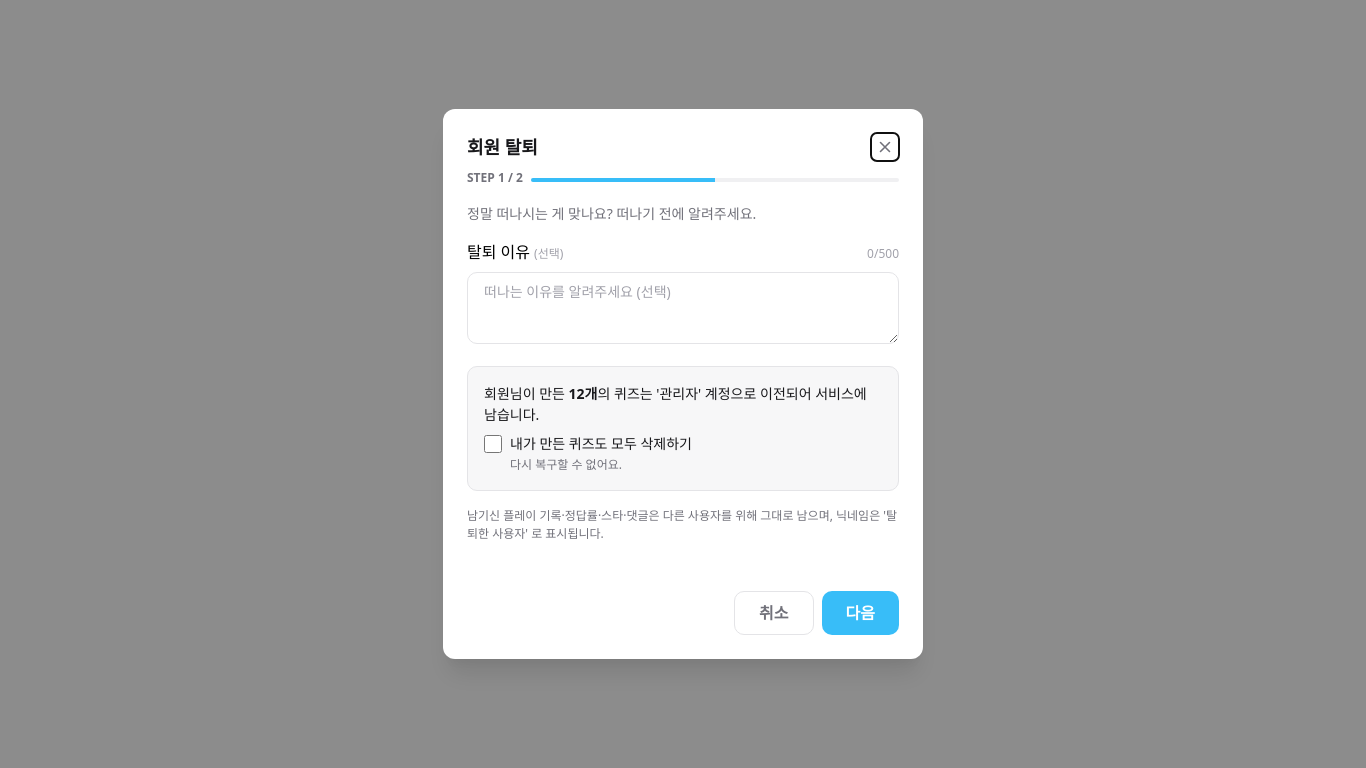
Test: WithdrawConfirmModal › Step 2 → Step 1 (이전) › step 2 에서 입력한 코드가 이전 후 다시 step 2 가면 보존된다
Click the button "다음": (860, 613) 822,591 -> 899,635
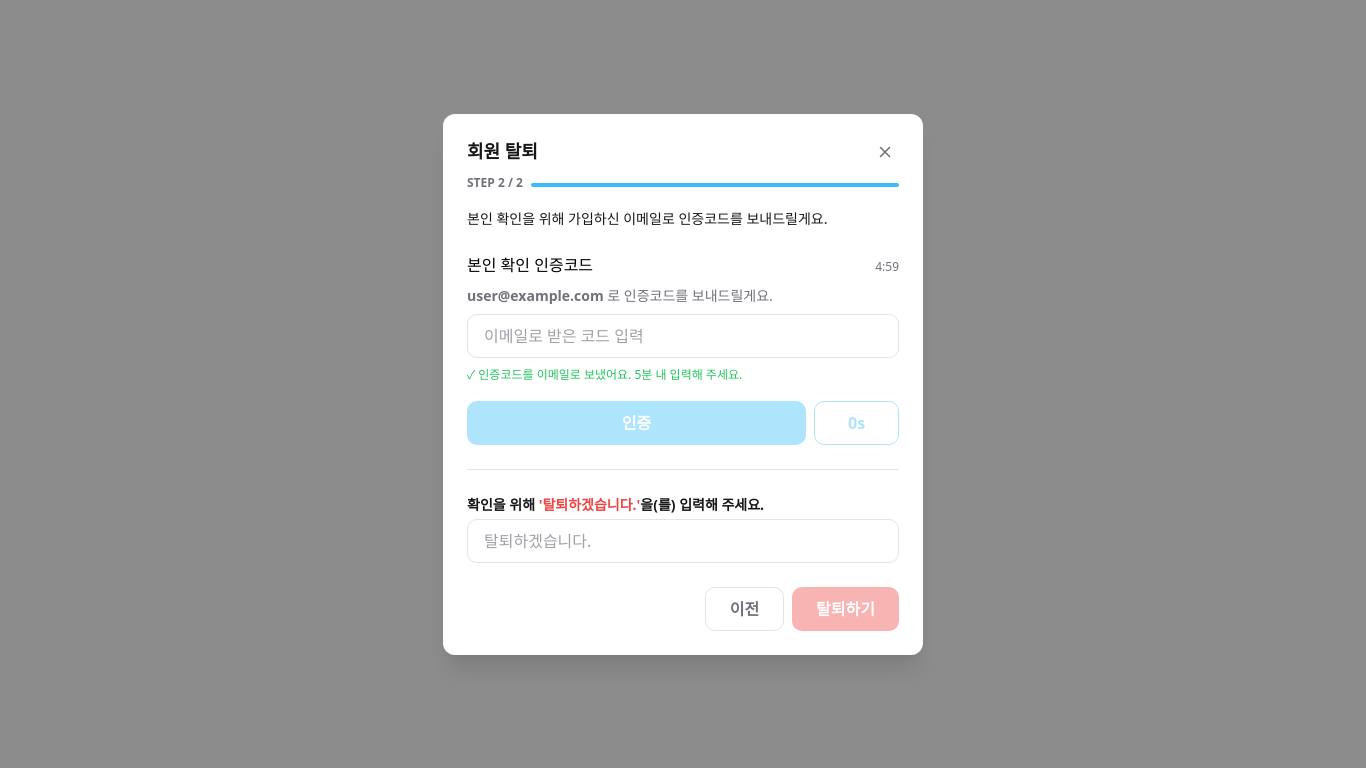
In the field named "인증코드": (683, 336) 467,314 -> 899,358, type "123456"
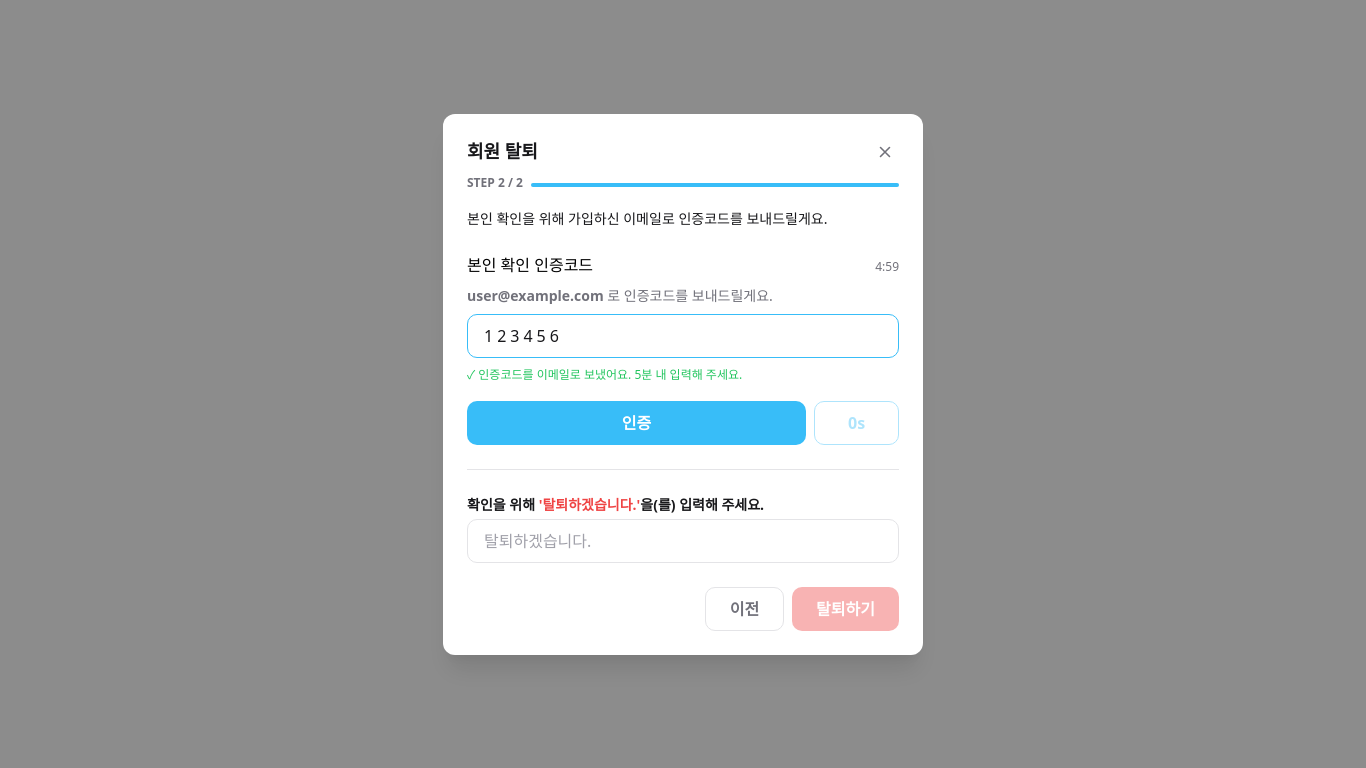
Click the button "이전": (744, 608) 705,586 -> 784,630
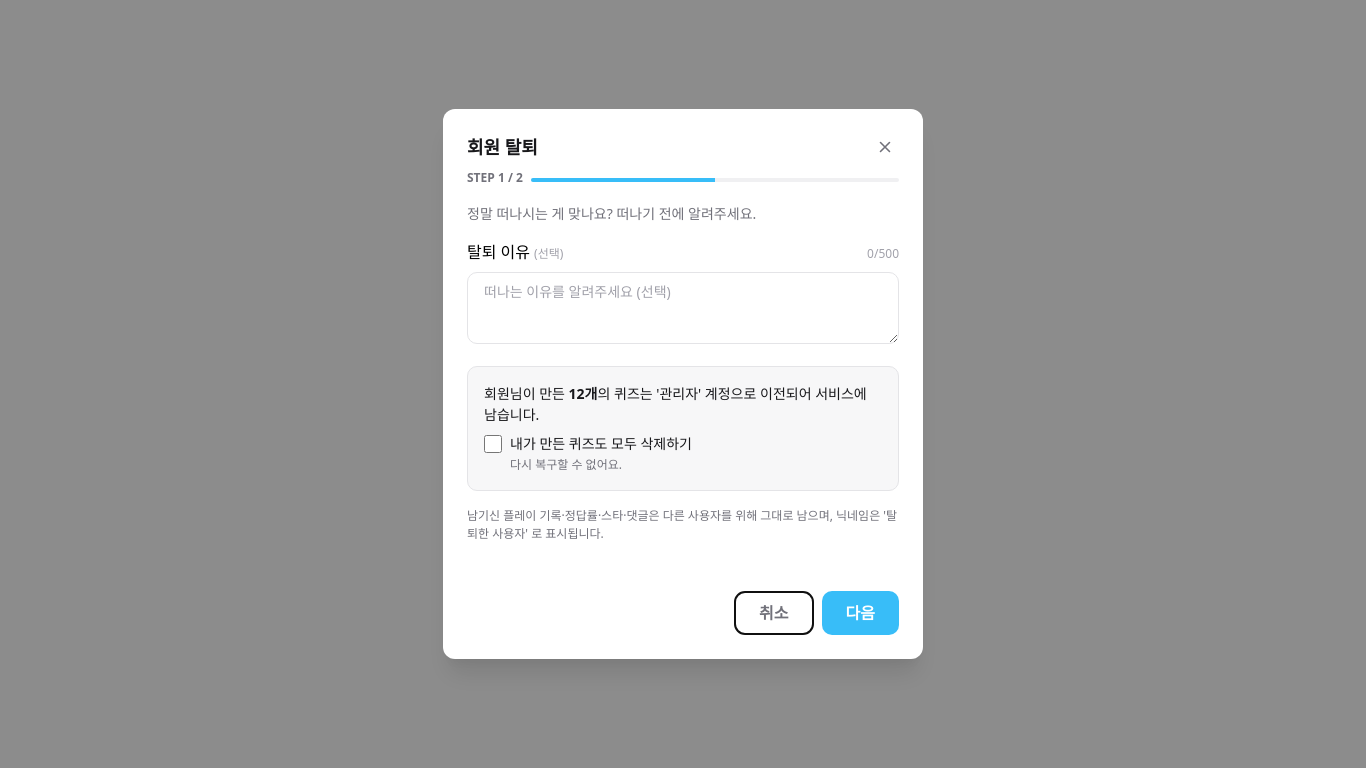
Click the button "다음": (860, 613) 822,591 -> 899,635
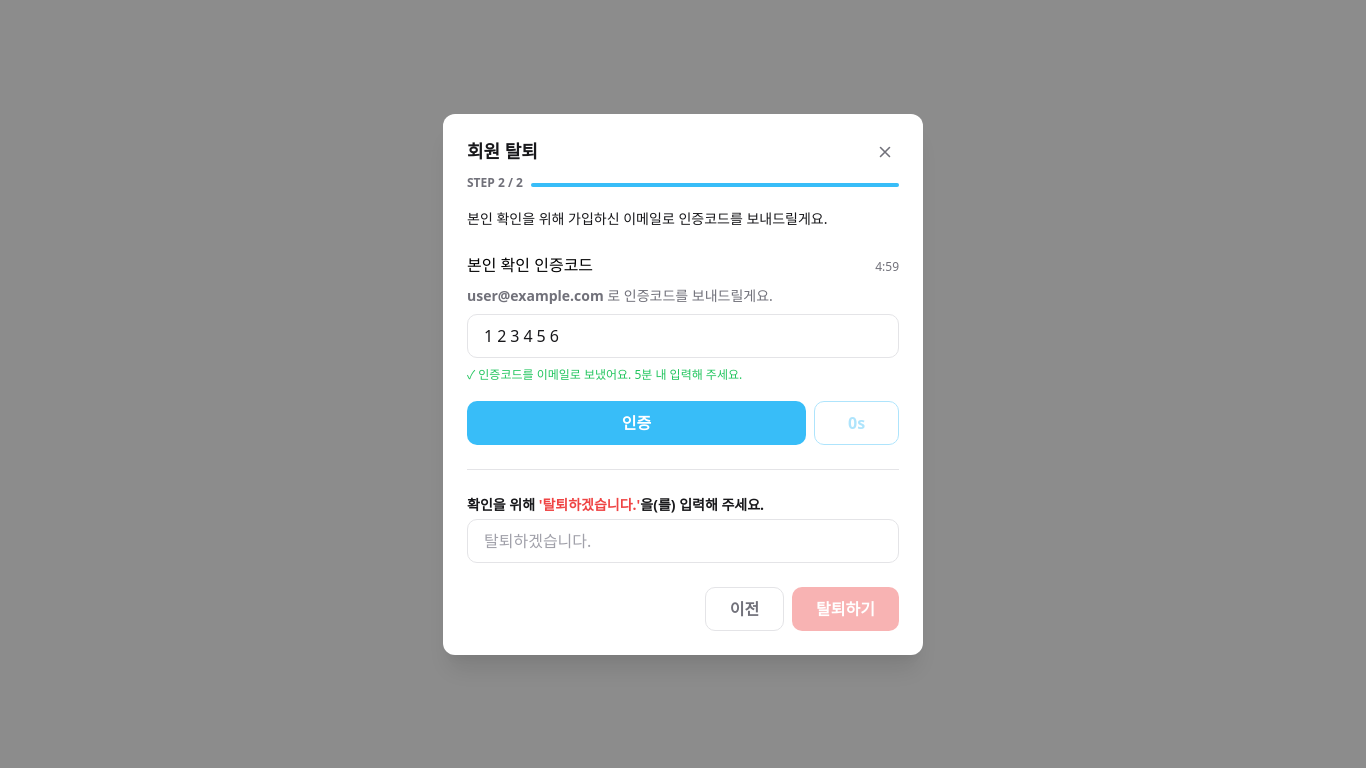
Now the field named "인증코드" holds "123456", box 467,314 -> 899,358
